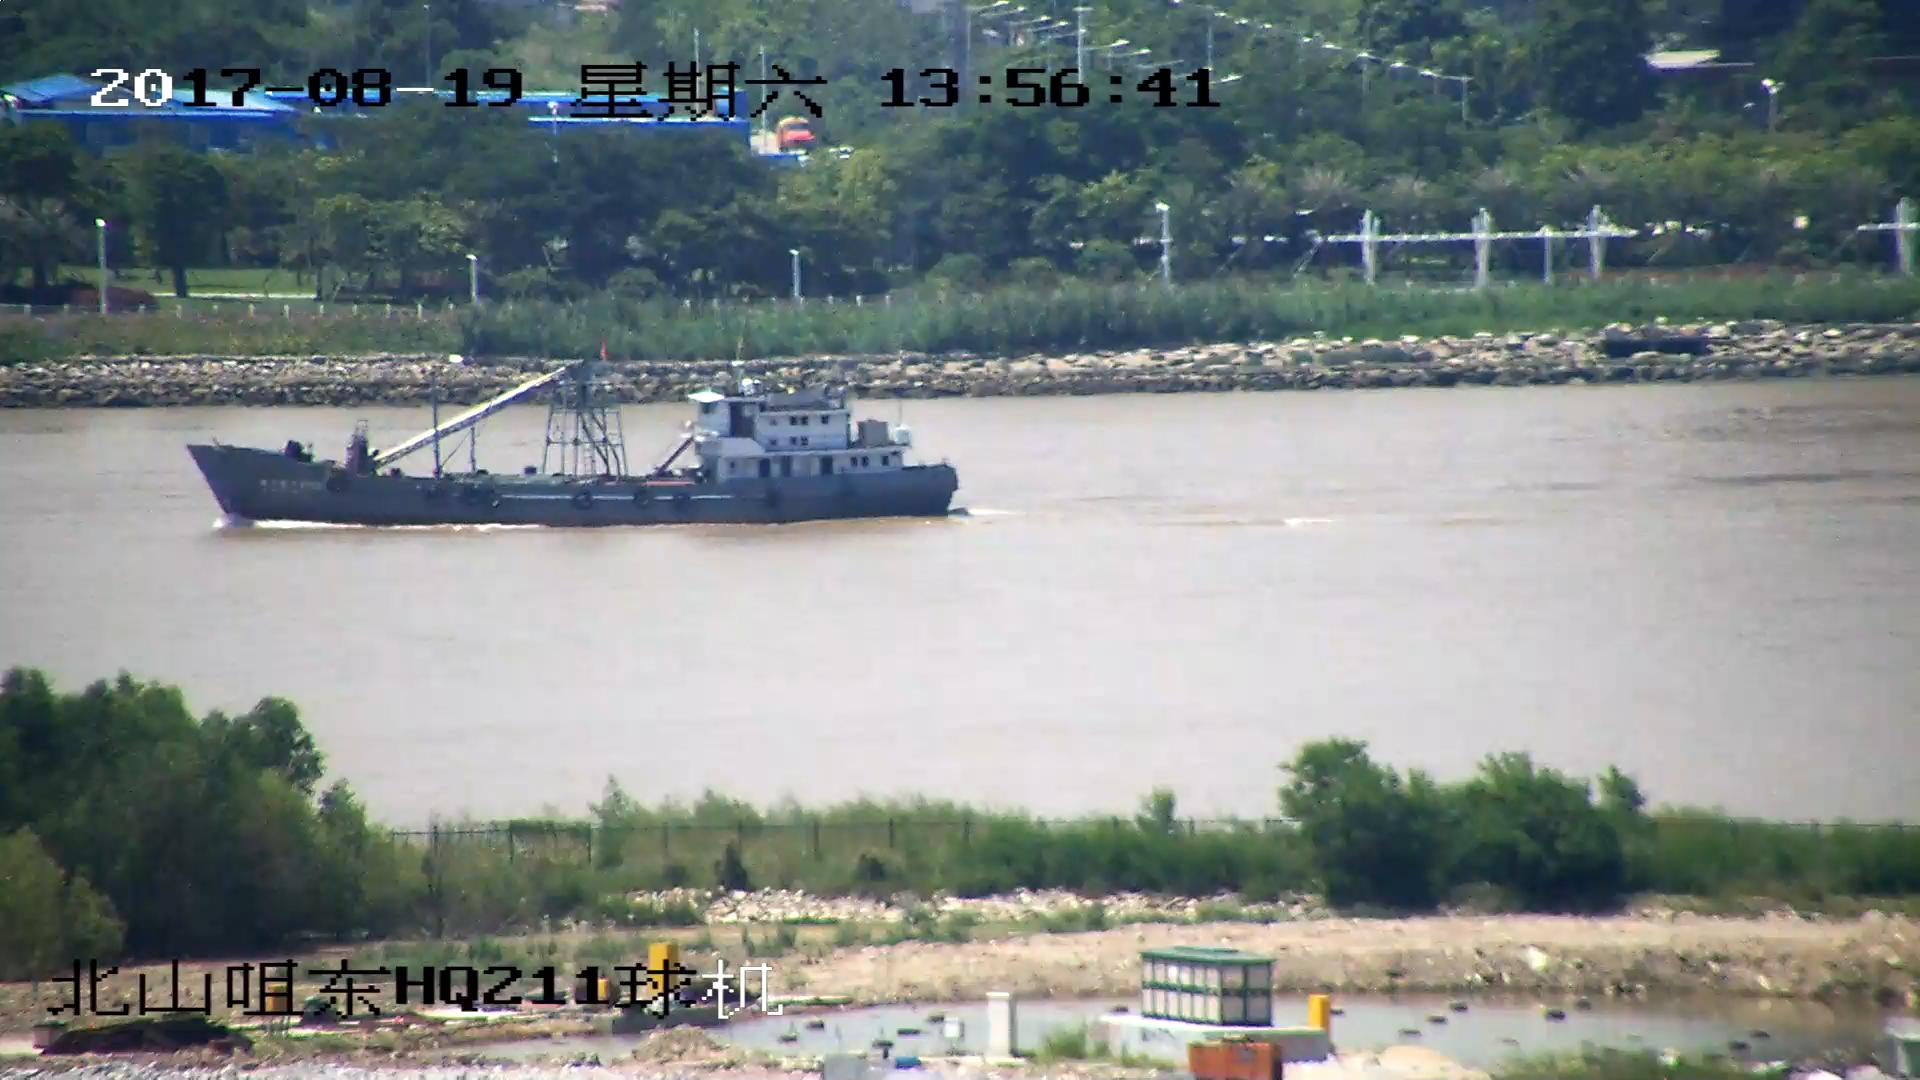fishing boat: (181, 361, 964, 529)
